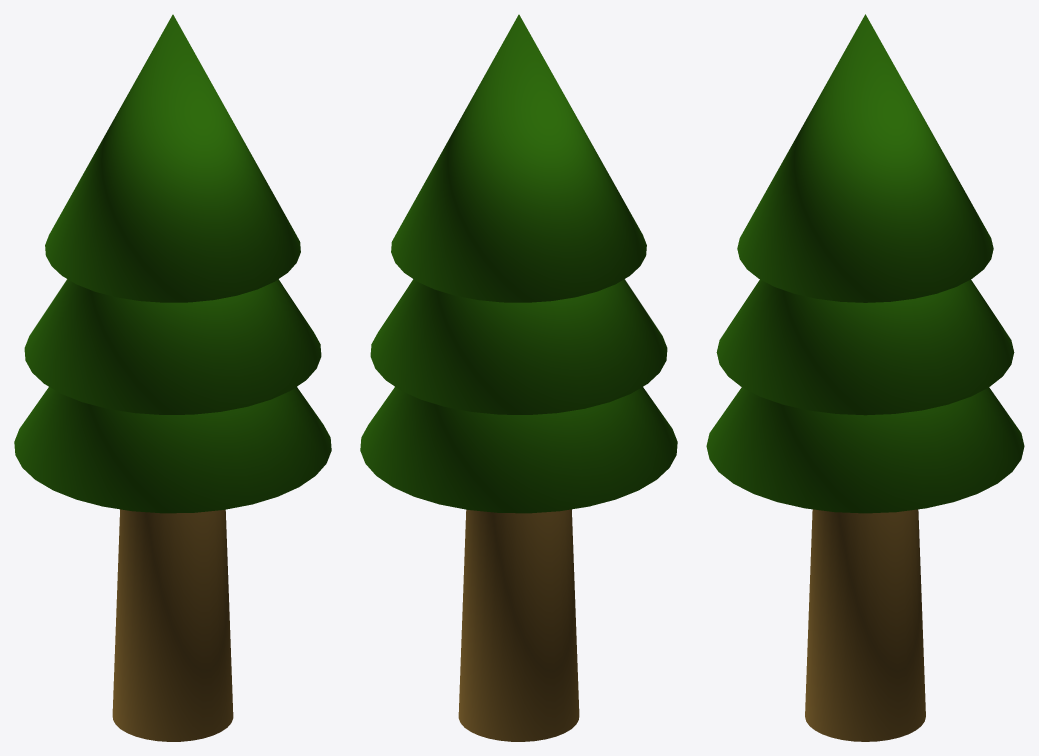
The model's file is tree2.fbx.
3 views of the same model, side by side, from view 1: azimuth 30°, elevation 25°; view 2: azimuth 150°, elevation 25°; view 3: azimuth 270°, elevation 25° (orthographic).
Visible parts, largest first — view 1: Circle; view 2: Circle; view 3: Circle.
Part boxes in pixels (x1,y1,x2,y2): Circle: (14,14,331,741); Circle: (360,14,677,741); Circle: (706,14,1024,741).
Bounding box in the file's own units: 417 × 1017 × 417.
